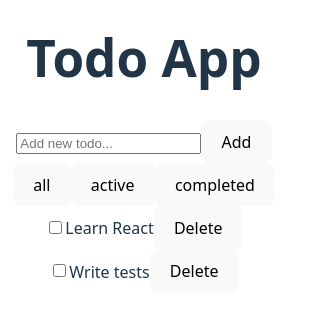
Scenario: Todo App E2E Tests › Проверка добавления задачи в список
This screenshot has width=320, height=331.
Вводим текст задачи в поле ввода и проверяем, что текст корректно отображается
In the field with test id "todo-input": (109, 144) [16, 133, 201, 154], type "Read book"
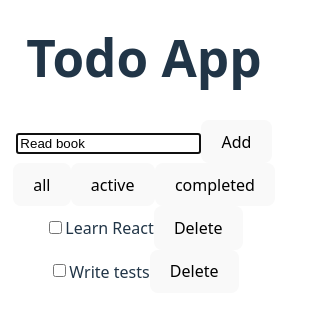
Нажимаем кнопку добавления задачи
Click the button with test id "add-button": (236, 142) [201, 120, 271, 163]
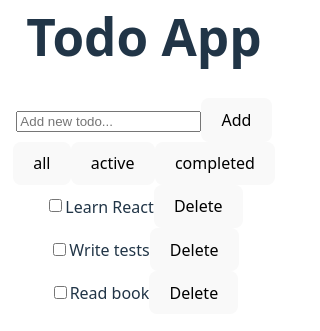
Result: the element with class "todo-item" shows "Read book" at [54, 271, 239, 314]
